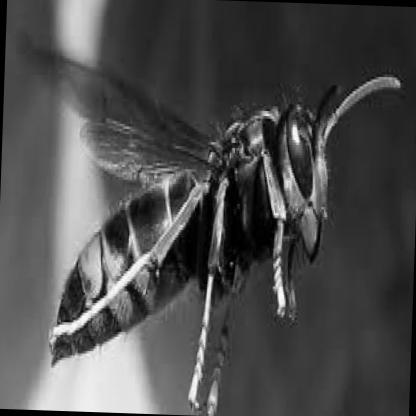asian: (6, 19, 400, 415)
